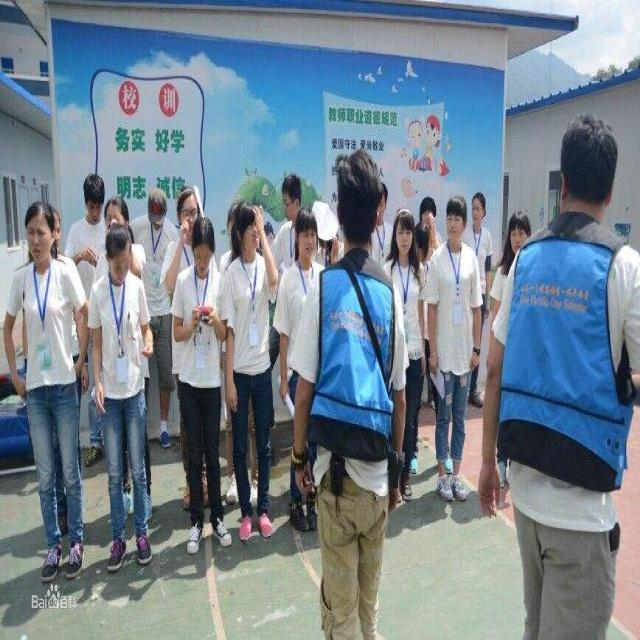helmet: (555, 139, 621, 300), (333, 192, 381, 336), (21, 266, 55, 358), (172, 240, 203, 328), (103, 297, 133, 387), (188, 282, 216, 374), (231, 263, 261, 348), (292, 272, 319, 356), (81, 222, 106, 306), (102, 257, 130, 328), (278, 230, 305, 298), (506, 280, 532, 348), (392, 274, 415, 349), (444, 262, 467, 330), (469, 250, 487, 310), (417, 260, 437, 313)
